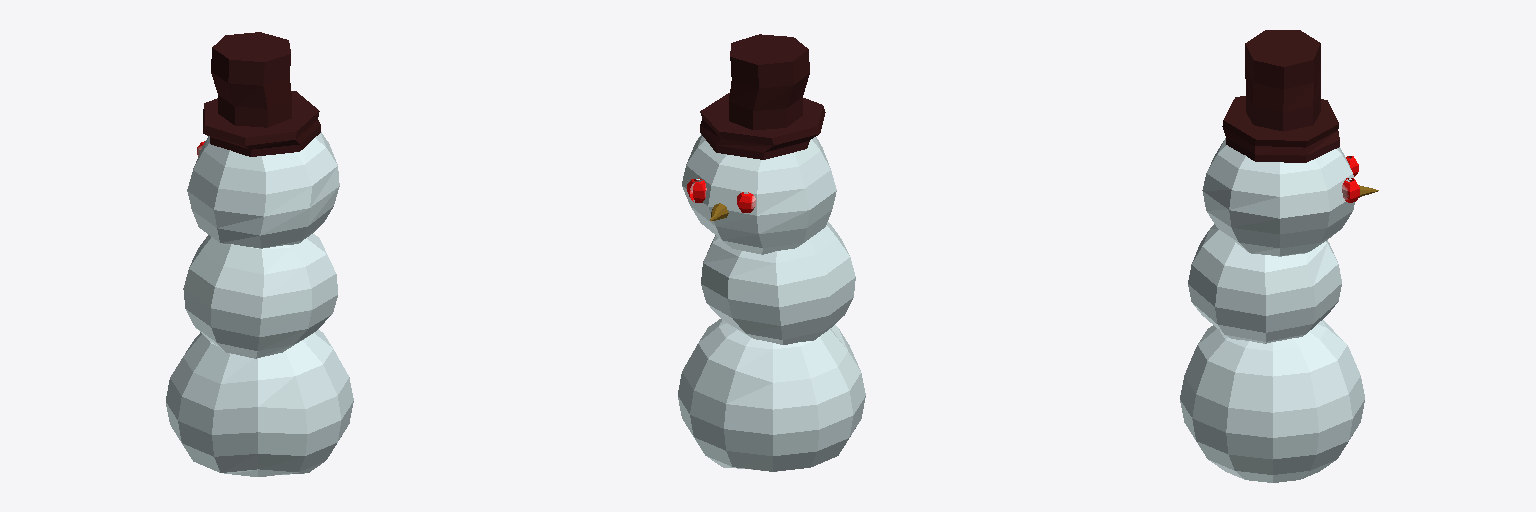
3 views of the same model, side by side, from view 1: azimuth 30°, elevation 25°; view 2: azimuth 150°, elevation 25°; view 3: azimuth 270°, elevation 25° (orthographic).
Parts seen in each view (by area): view 1: body2, body1, head, hat1, hat2; view 2: body2, body1, head, hat1, hat2; view 3: body2, head, body1, hat1, hat2.
Part boxes in pixels (left/top/right/bottom): body2: left=166, top=329, right=353, bottom=476; body1: left=183, top=234, right=337, bottom=358; head: left=187, top=132, right=339, bottom=248; hat1: left=211, top=32, right=291, bottom=127; hat2: left=203, top=91, right=320, bottom=156; body2: left=678, top=319, right=865, bottom=471; body1: left=701, top=222, right=855, bottom=344; head: left=682, top=134, right=836, bottom=254; hat1: left=729, top=34, right=809, bottom=129; hat2: left=700, top=93, right=825, bottom=159; body2: left=1180, top=320, right=1364, bottom=482; head: left=1202, top=138, right=1354, bottom=256; body1: left=1188, top=224, right=1341, bottom=343; hat1: left=1245, top=30, right=1320, bottom=131; hat2: left=1222, top=96, right=1339, bottom=162.
Size of the model in its own units: 2.41 by 5.9 by 2.55.
Materials: 1 (1 with a texture image).